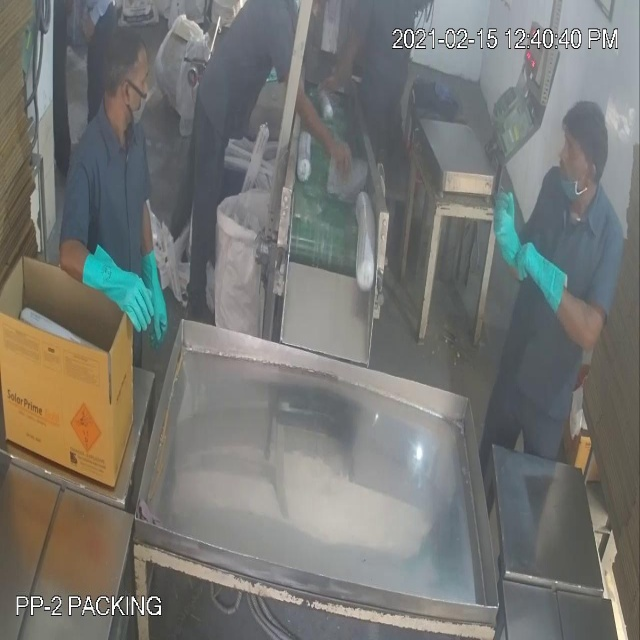Guantes: (83, 244, 154, 347), (509, 223, 573, 332), (137, 240, 176, 353), (495, 187, 527, 290)
Sin_guantes: (279, 61, 362, 188)
